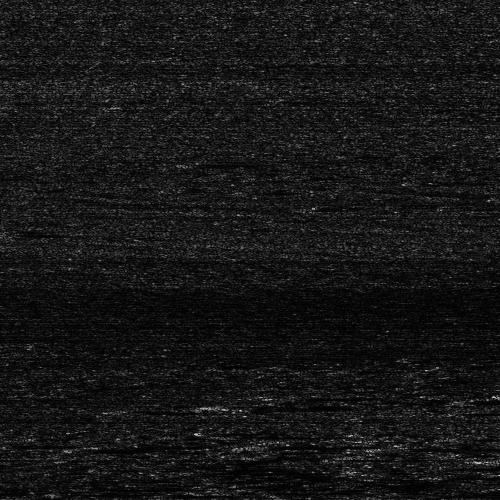rock: (200, 402, 263, 411), (460, 390, 500, 403), (449, 457, 500, 462), (243, 441, 284, 446)
shadow: (232, 402, 347, 411), (264, 441, 381, 446), (481, 457, 500, 462)
